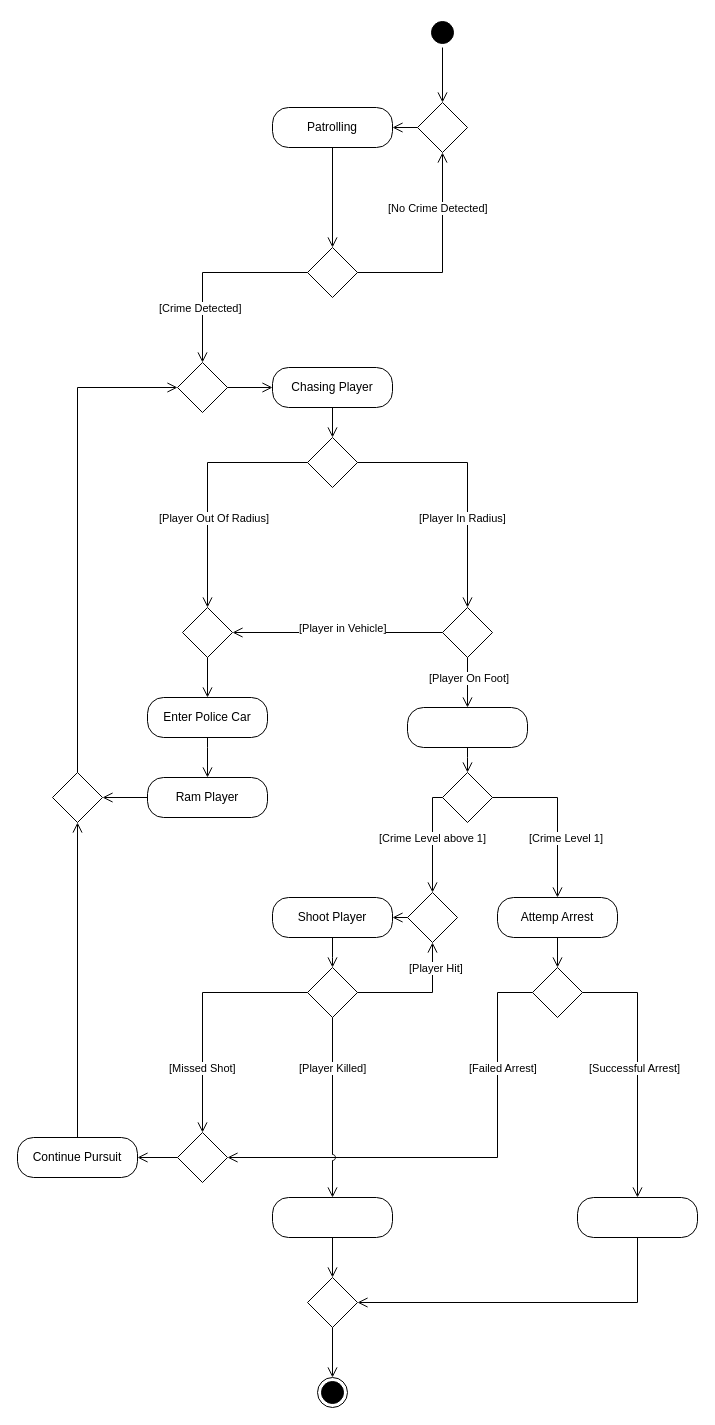
This 715x1425 diagram has some shape labels left out. The shapes that lost their labels are listed below. From the top down, each one's centre as x and y in pixels, then its label:
At point (467, 727): "Leave Police Car".
At point (332, 1217): "Player Dead".
At point (637, 1217): "Player Busted".
